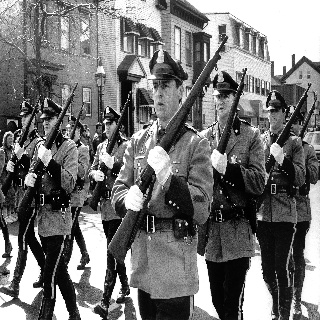rifle: (106, 32, 231, 266), (194, 68, 250, 256), (18, 82, 78, 222), (255, 82, 312, 211), (86, 90, 137, 210)
